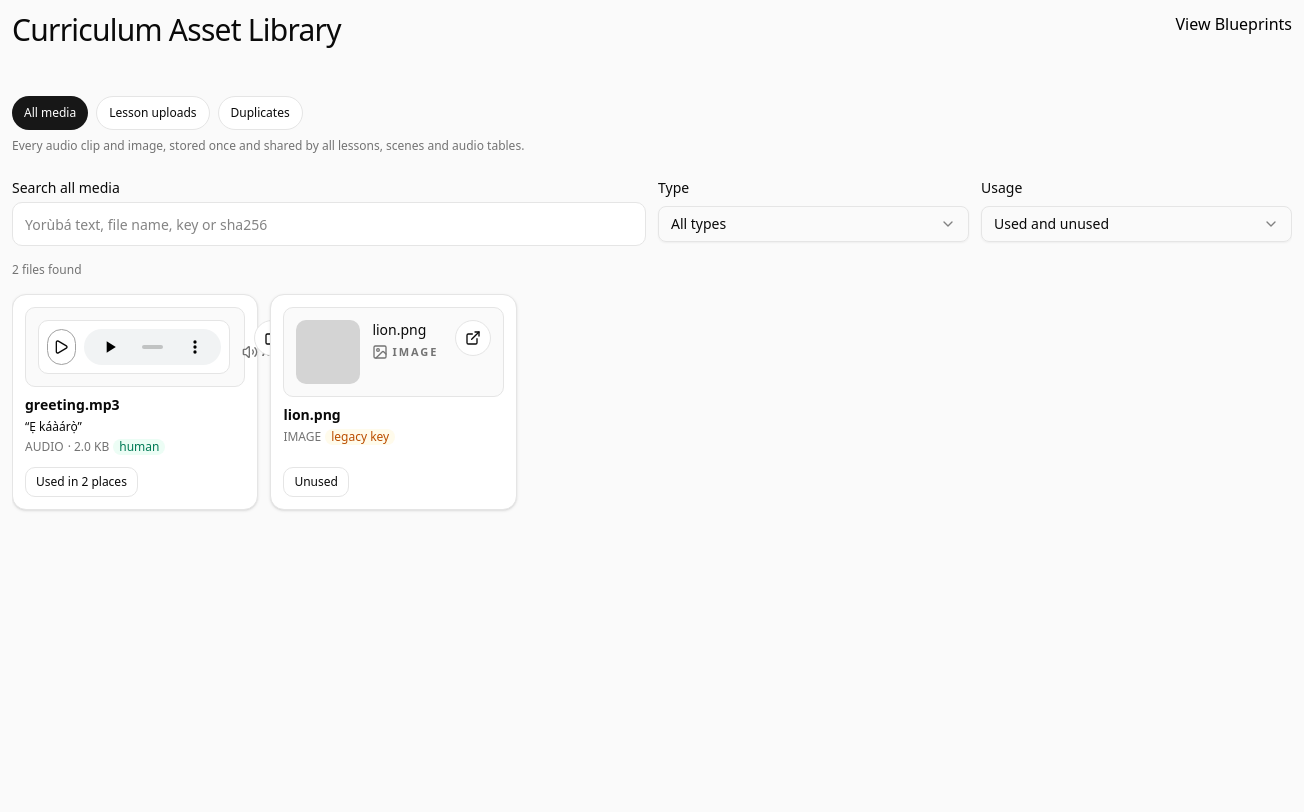
Scenario: CurriculumAssetLibraryPage › shows the duplicate report
Click the tab "Duplicates": (260,113) [218,96,303,130]
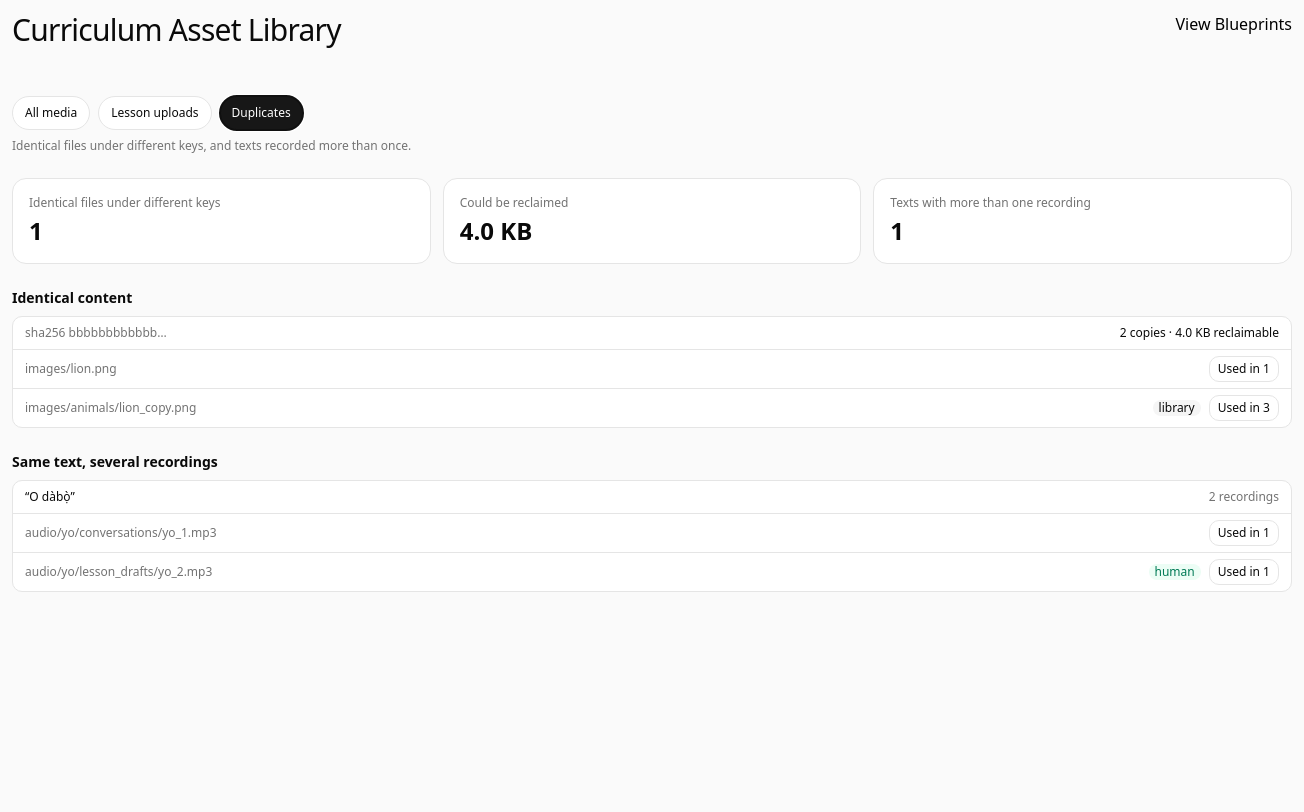
Now the text "images/animals/lion_copy.png" is shown, box [25,400,196,416]
Now the text "2 copies · 4.0 KB reclaimable" is shown, box [1120,325,1279,341]
Now the text "“O dàbọ̀”" is shown, box [25,489,75,505]
